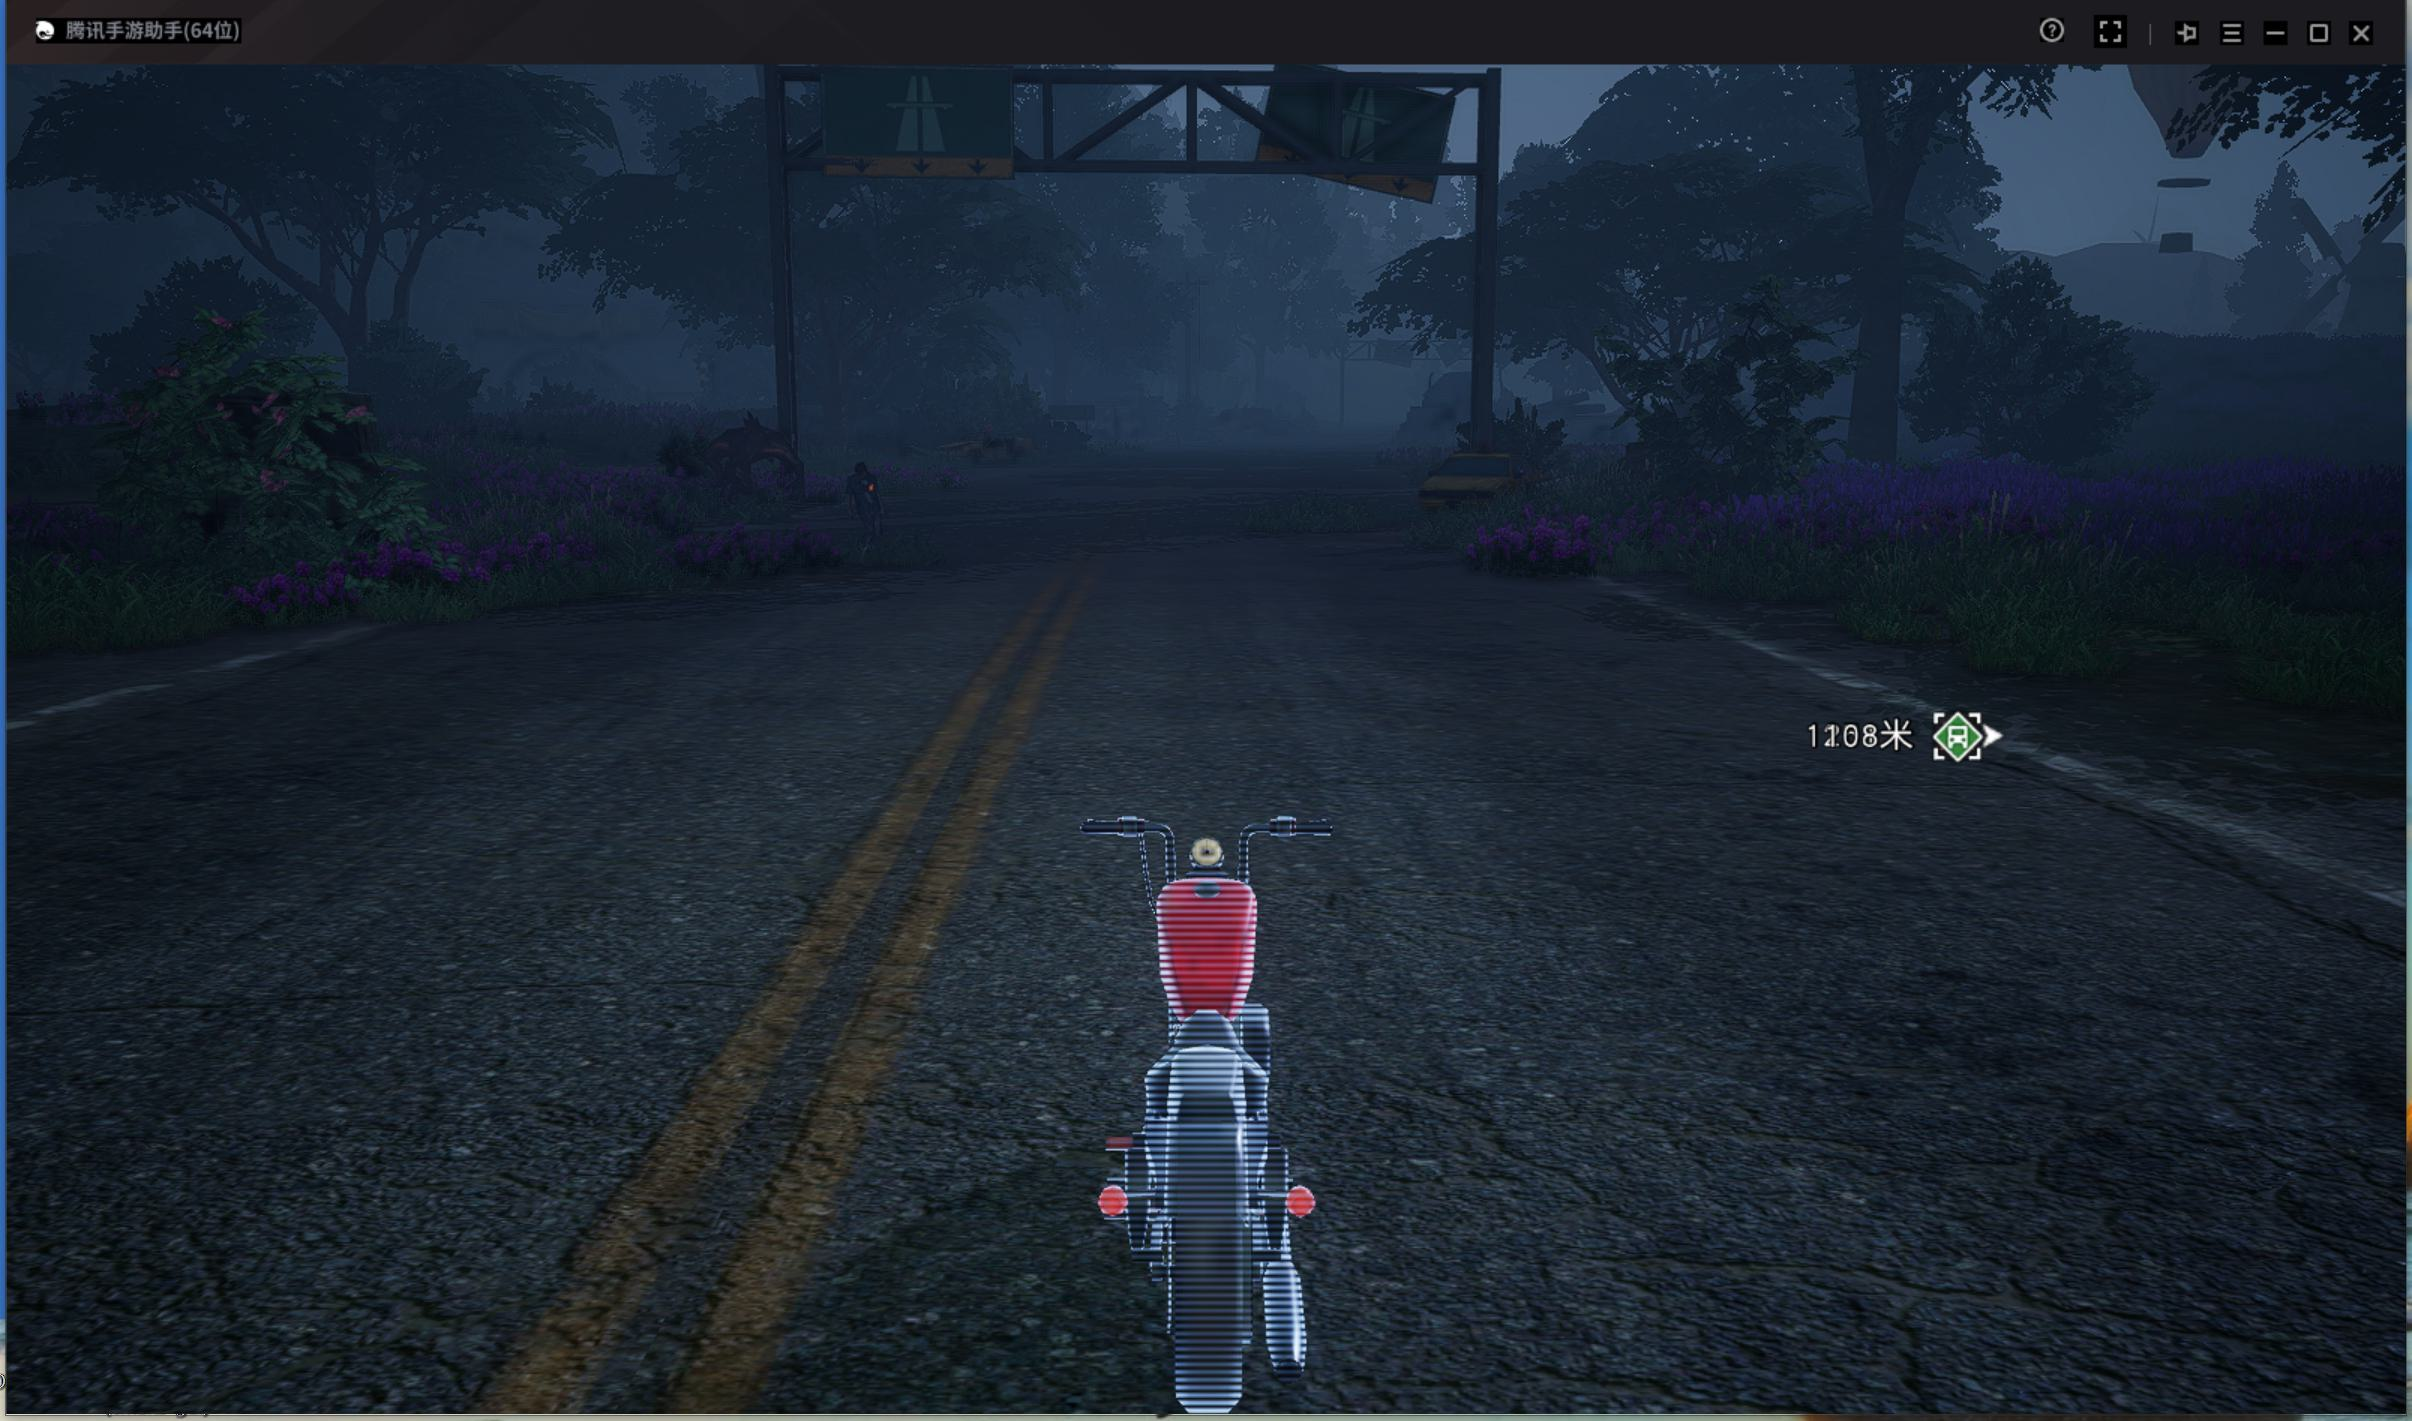tree: (1830, 247, 1910, 492)
